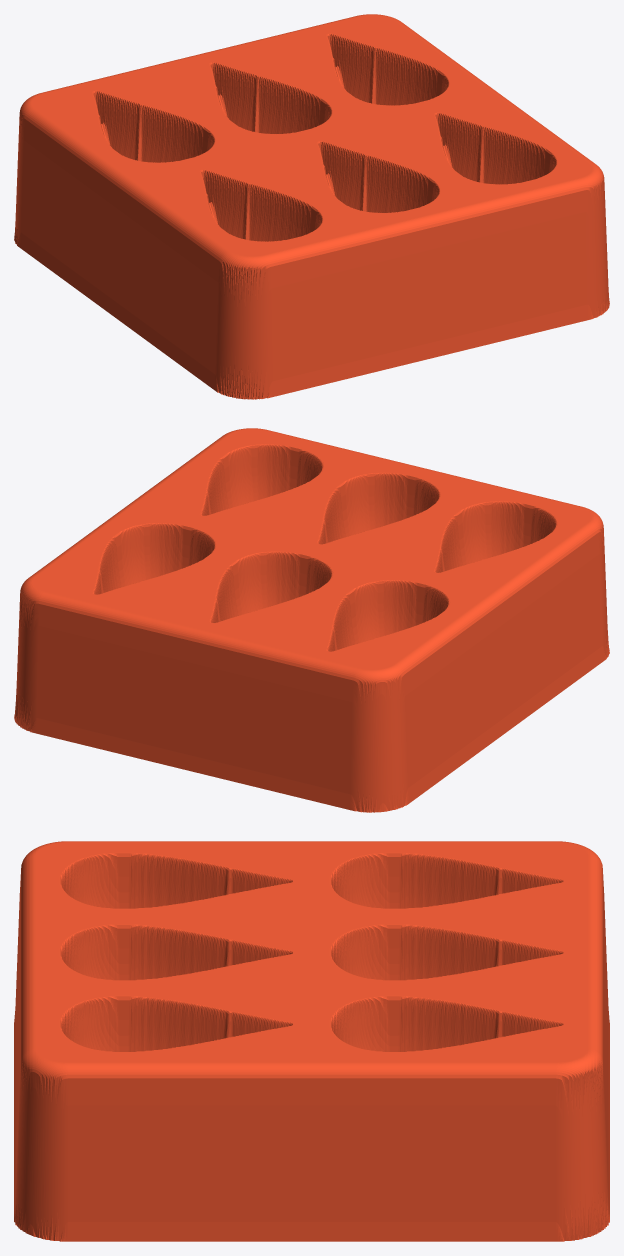
The model's file is mold.glb.
3 views of the same model, one above another, from view 1: azimuth 30°, elevation 25°; view 2: azimuth 150°, elevation 25°; view 3: azimuth 270°, elevation 25° (orthographic). The views are drawn at different scales.
Visible parts, largest first — view 1: geometry_0; view 2: geometry_0; view 3: geometry_0.
Boxes of the visible parts, <box> form: geometry_0: <box>14,14,609,399</box>; geometry_0: <box>14,428,609,812</box>; geometry_0: <box>14,841,609,1241</box>.
Size of the model in its own units: 0.0942 by 0.0313 by 0.0996.
